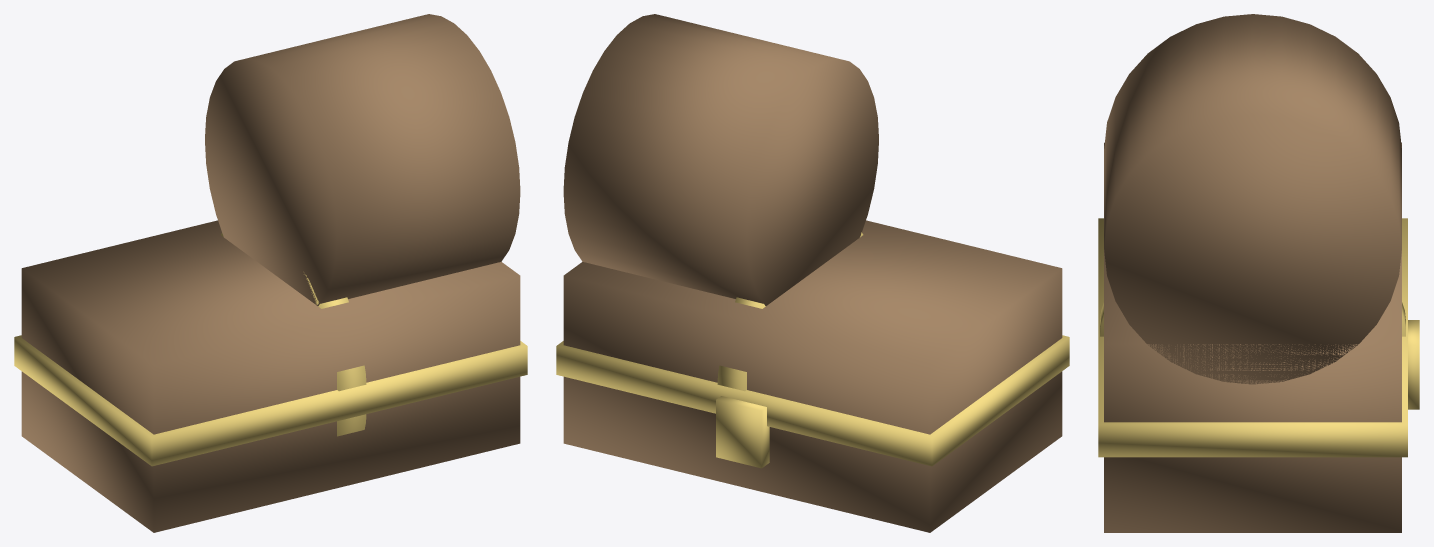
File: Chest_Interactive.glb
3 views of the same model, side by side, from view 1: azimuth 30°, elevation 25°; view 2: azimuth 150°, elevation 25°; view 3: azimuth 270°, elevation 25° (orthographic). The views are drawn at different scales.
Visible parts, largest first — view 1: ChestBase, ChestLid; view 2: ChestBase, ChestLid; view 3: ChestLid, ChestBase.
Boxes of the visible parts, x1,y1,x2,y2 form: ChestBase: (14, 220, 527, 532); ChestLid: (205, 14, 520, 436); ChestBase: (556, 220, 1069, 532); ChestLid: (563, 14, 878, 468); ChestLid: (1100, 14, 1419, 409); ChestBase: (1098, 142, 1407, 532).
Bounding box in the file's own units: 0.82 × 0.86 × 0.54.
